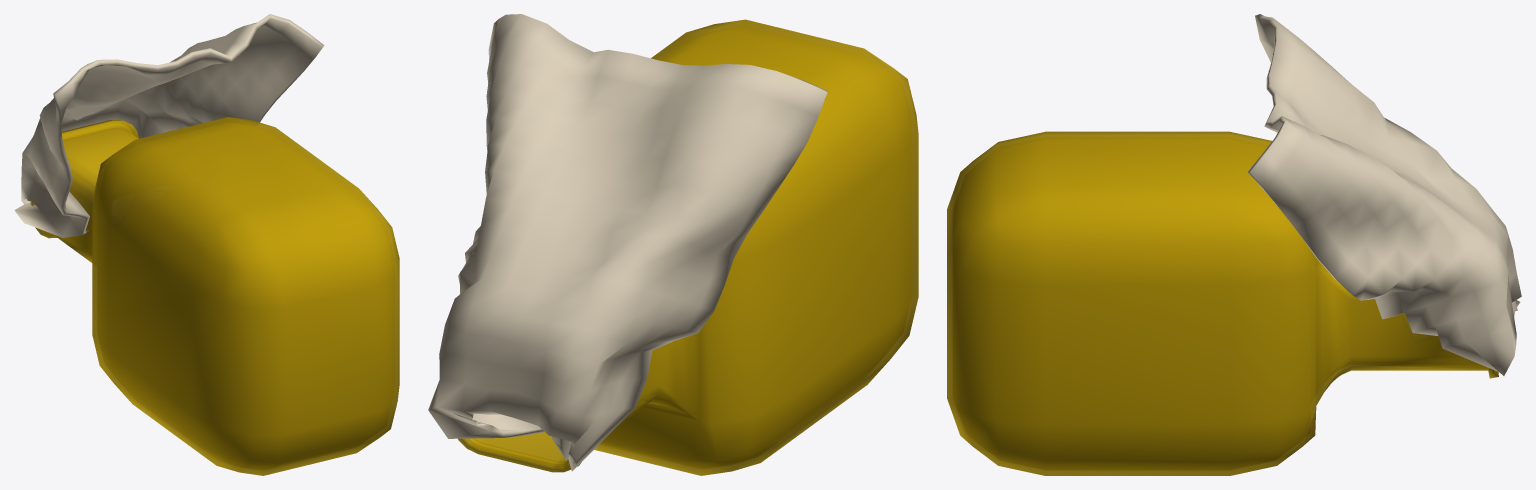
The model's file is item-molotov.glb.
3 renders of one model, left to right at view 1: azimuth 30°, elevation 25°; view 2: azimuth 150°, elevation 25°; view 3: azimuth 270°, elevation 25°, orthographic. The views are drawn at different scales.
Size of the model in its own units: 1.78 by 2.18 by 3.01.
